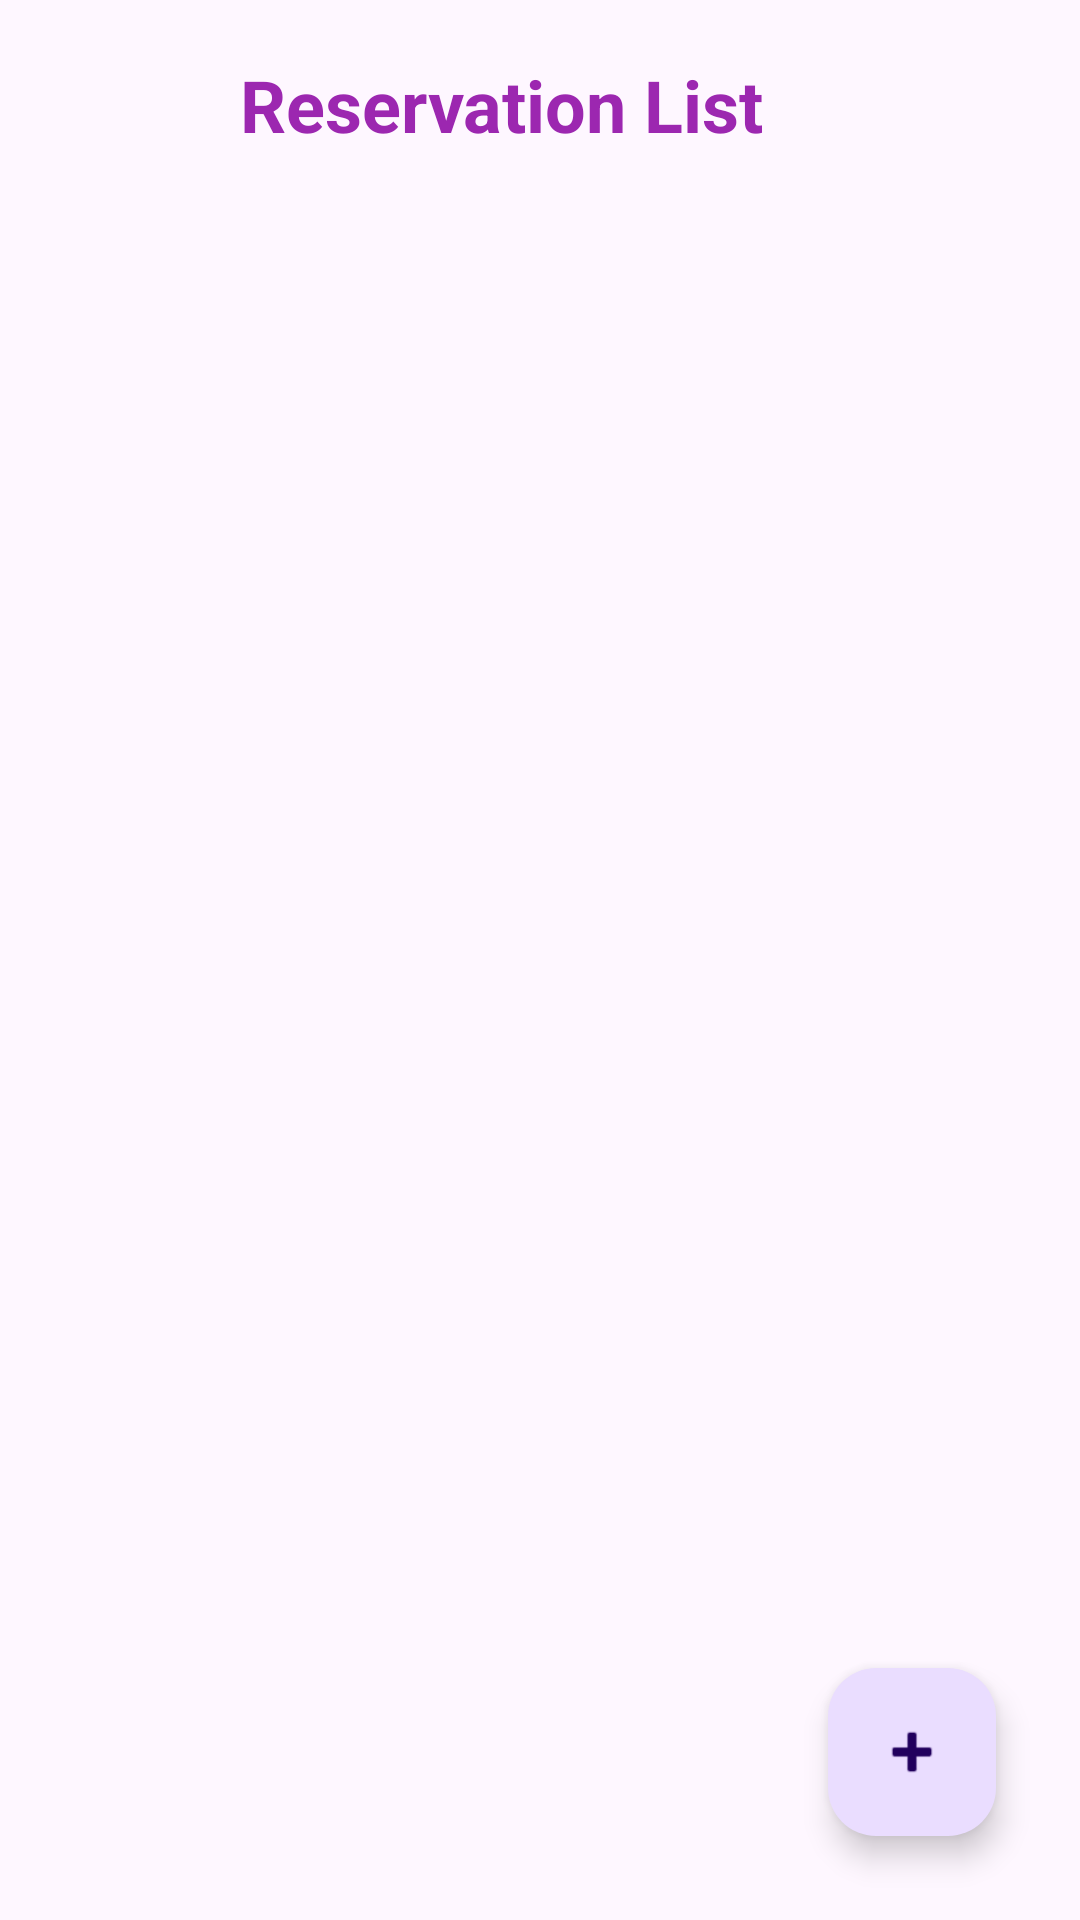

Icon bounding boxes for this 1080*1920 phone screenshot, format bbox=(x1, y1, x2, y2):
add: bbox=(828, 1668, 996, 1836)
